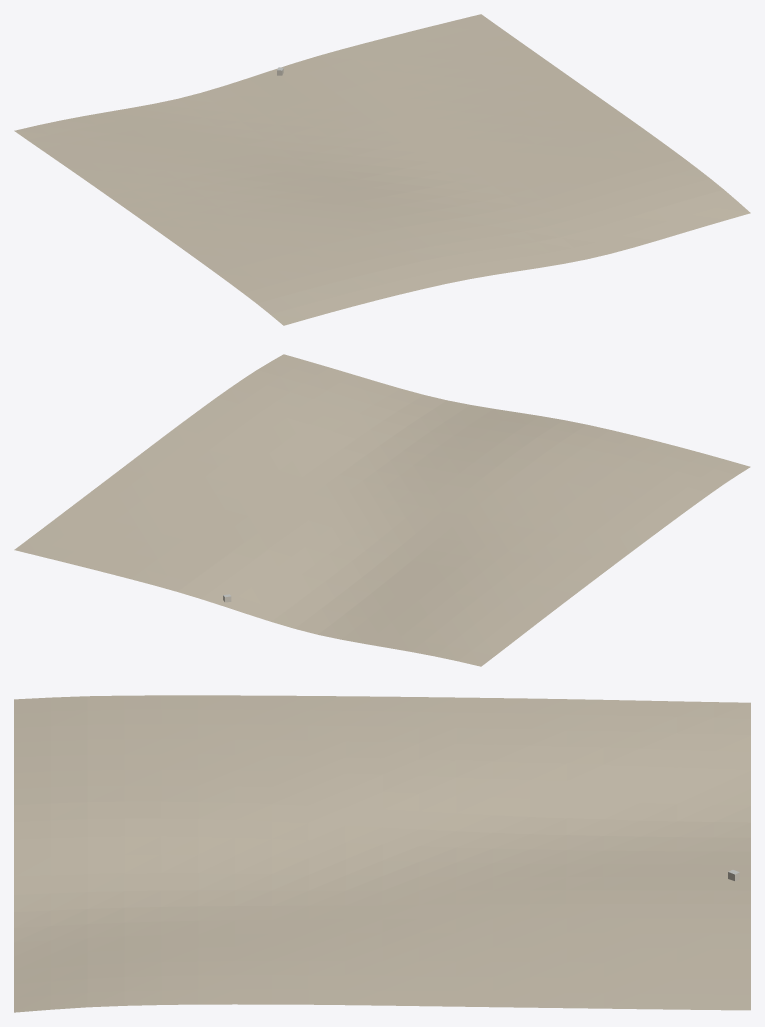
Rendered from bolak_-23_6.glb.
3 renders of one model, top to bottom at view 1: azimuth 30°, elevation 25°; view 2: azimuth 150°, elevation 25°; view 3: azimuth 270°, elevation 25°, orthographic. The views are drawn at different scales.
Visible parts, largest first — view 1: Yer_Tuproq-col; view 2: Yer_Tuproq-col; view 3: Yer_Tuproq-col.
Part boxes in pixels (box(x1,y1,x2,y2)): Yer_Tuproq-col: box(14, 14, 750, 325); Yer_Tuproq-col: box(14, 354, 750, 666); Yer_Tuproq-col: box(14, 695, 750, 1012).
Size of the model in its own units: 400 by 12.86 by 400.
